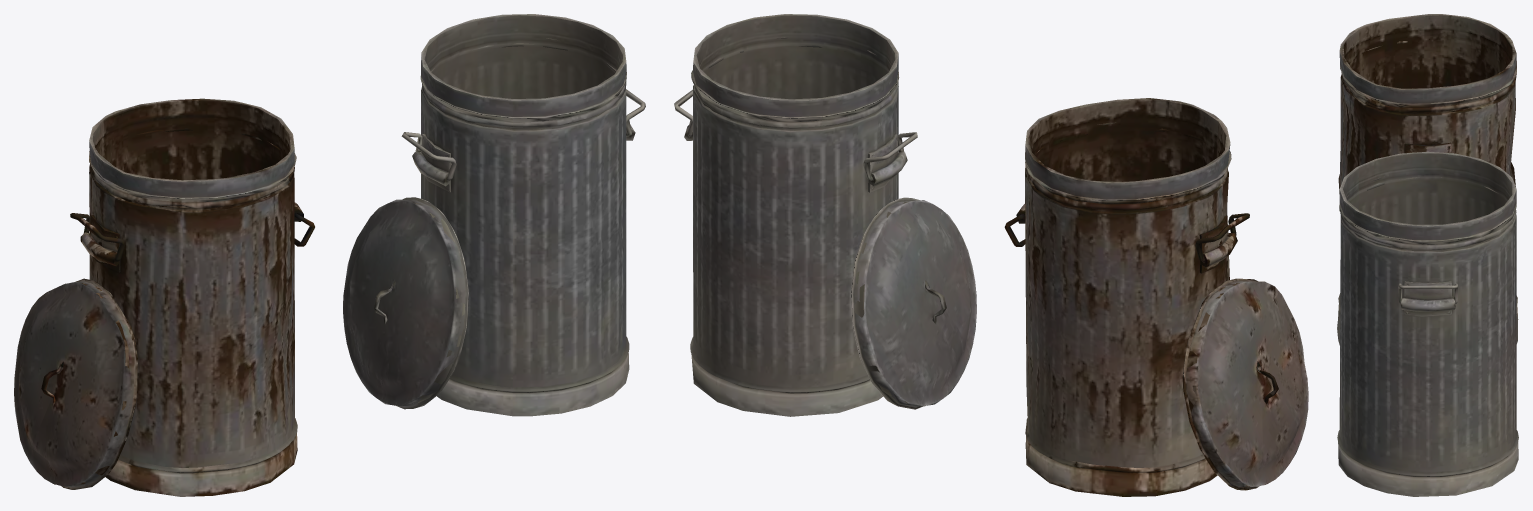
Rendered from metal_trash_can.glb.
The picture shows the model from 3 angles, left to right: view 1: azimuth 30°, elevation 25°; view 2: azimuth 150°, elevation 25°; view 3: azimuth 270°, elevation 25°; orthographic projection. The views are drawn at different scales.
Parts seen in each view (by area): view 1: metal_trash_can, metal_trash_can_rust, metal_trash_can_lid, metal_trash_can_rust_lid; view 2: metal_trash_can, metal_trash_can_rust, metal_trash_can_lid, metal_trash_can_rust_lid; view 3: metal_trash_can, metal_trash_can_rust, metal_trash_can_handle_right.
Part boxes in pixels (<box>): metal_trash_can: <box>412,14,635,416</box>; metal_trash_can_rust: <box>80,98,303,496</box>; metal_trash_can_lid: <box>343,197,469,409</box>; metal_trash_can_rust_lid: <box>14,278,137,489</box>; metal_trash_can: <box>684,14,907,416</box>; metal_trash_can_rust: <box>1016,98,1237,496</box>; metal_trash_can_lid: <box>850,197,976,409</box>; metal_trash_can_rust_lid: <box>1182,278,1308,490</box>; metal_trash_can: <box>1337,151,1518,496</box>; metal_trash_can_rust: <box>1338,14,1518,319</box>; metal_trash_can_handle_right: <box>1398,283,1457,303</box>.
Size of the model in its own units: 1.78 by 0.9062 by 0.5533.
Materials: 2 (2 with a texture image).
